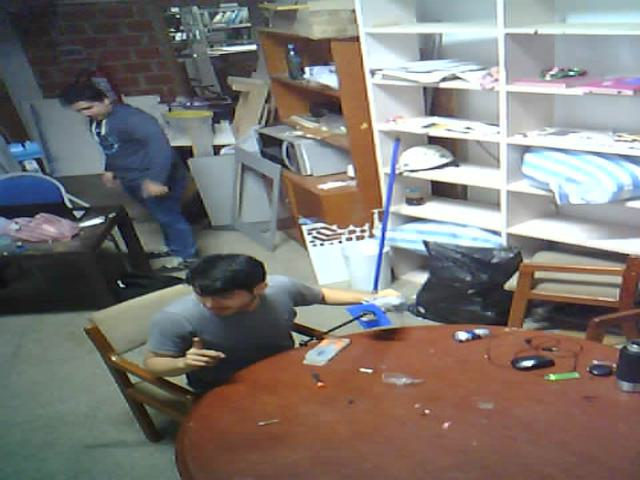person: (96, 252, 399, 415), (34, 49, 210, 268)
